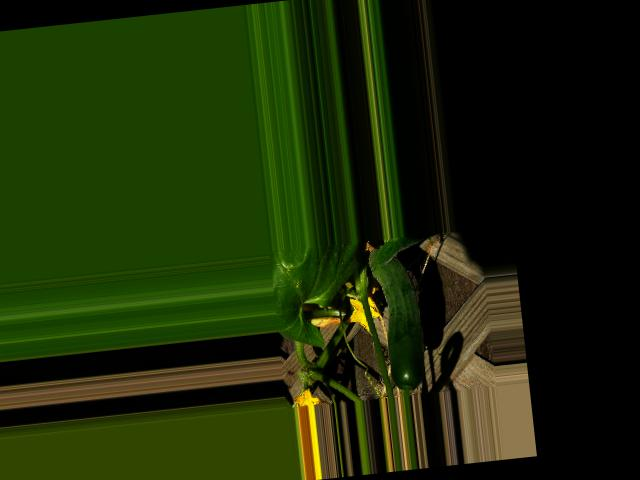cucumber: (366, 236, 429, 391)
